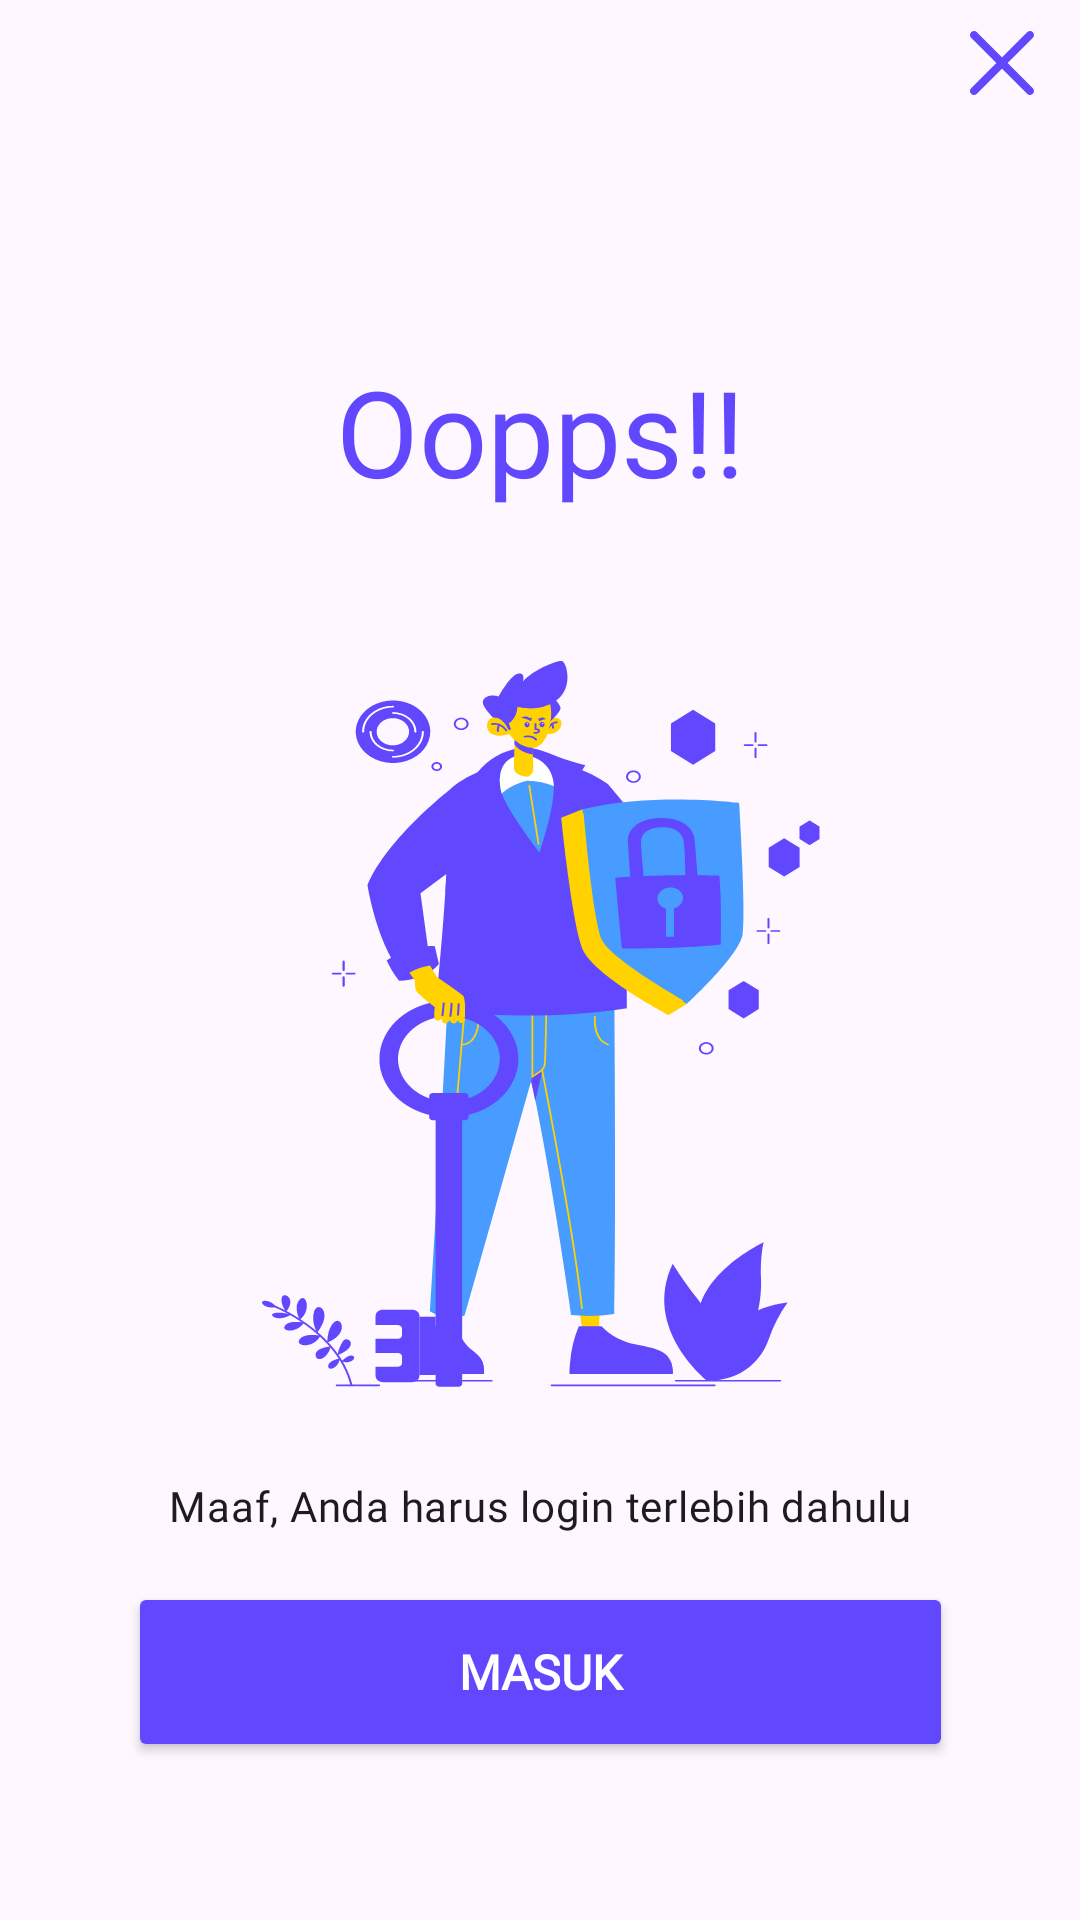

Named icons in this screenshot (1080px×1920px) and their bounding boxes, box=[x1, y1, x2, y2]:
close icon: box=[970, 31, 1034, 95]
